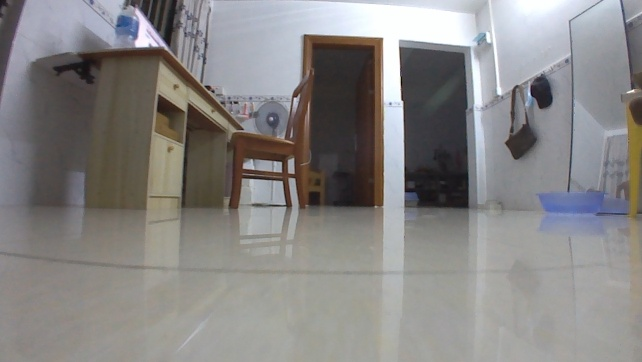chair_base: (252, 198, 289, 208)
door_anno: (353, 44, 385, 208)
